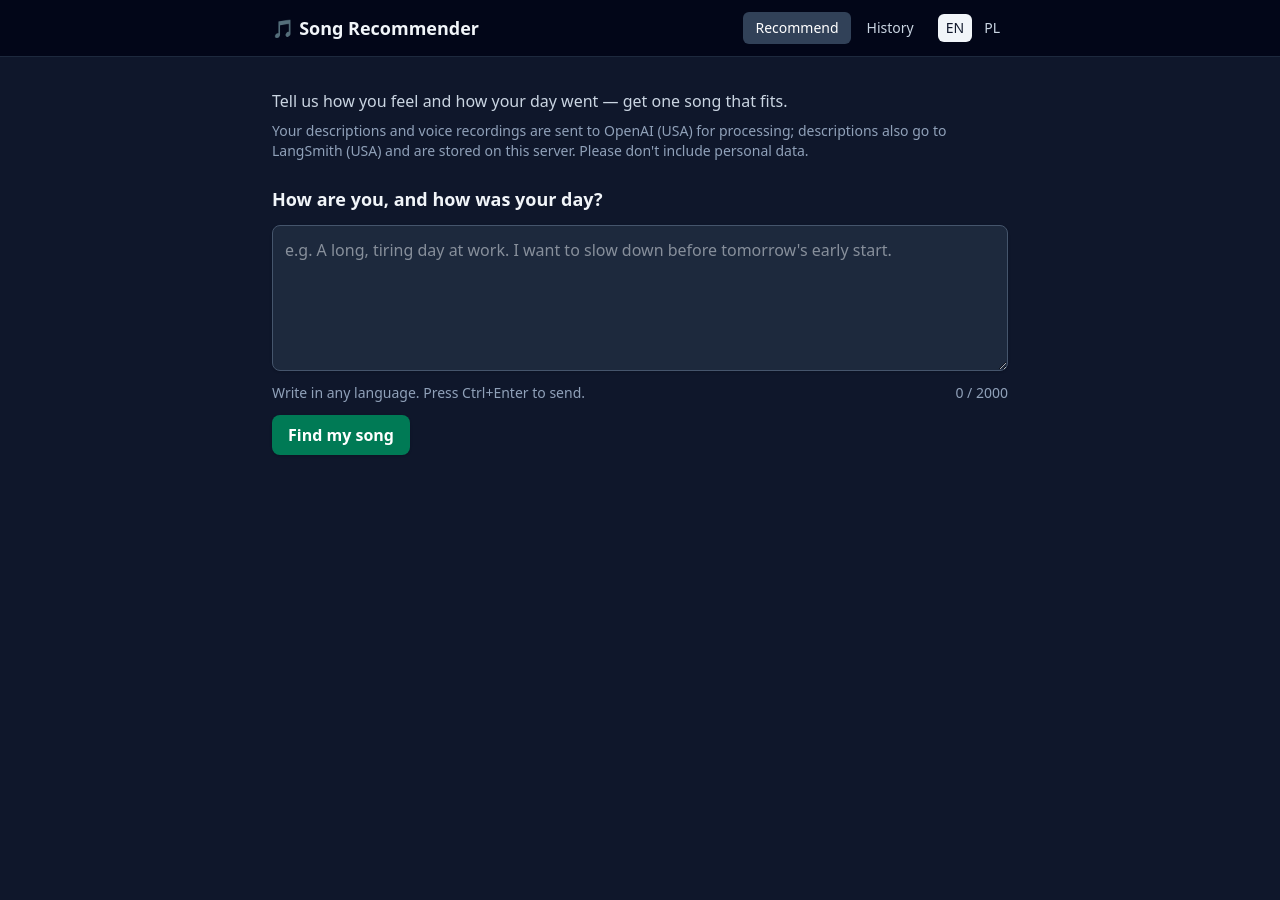
Scenario: LanguageSwitcher › sends the selected locale, so the explanation comes back in that language
Click the button with aria-label "Polski" at [992, 28], box [976, 14, 1008, 42]
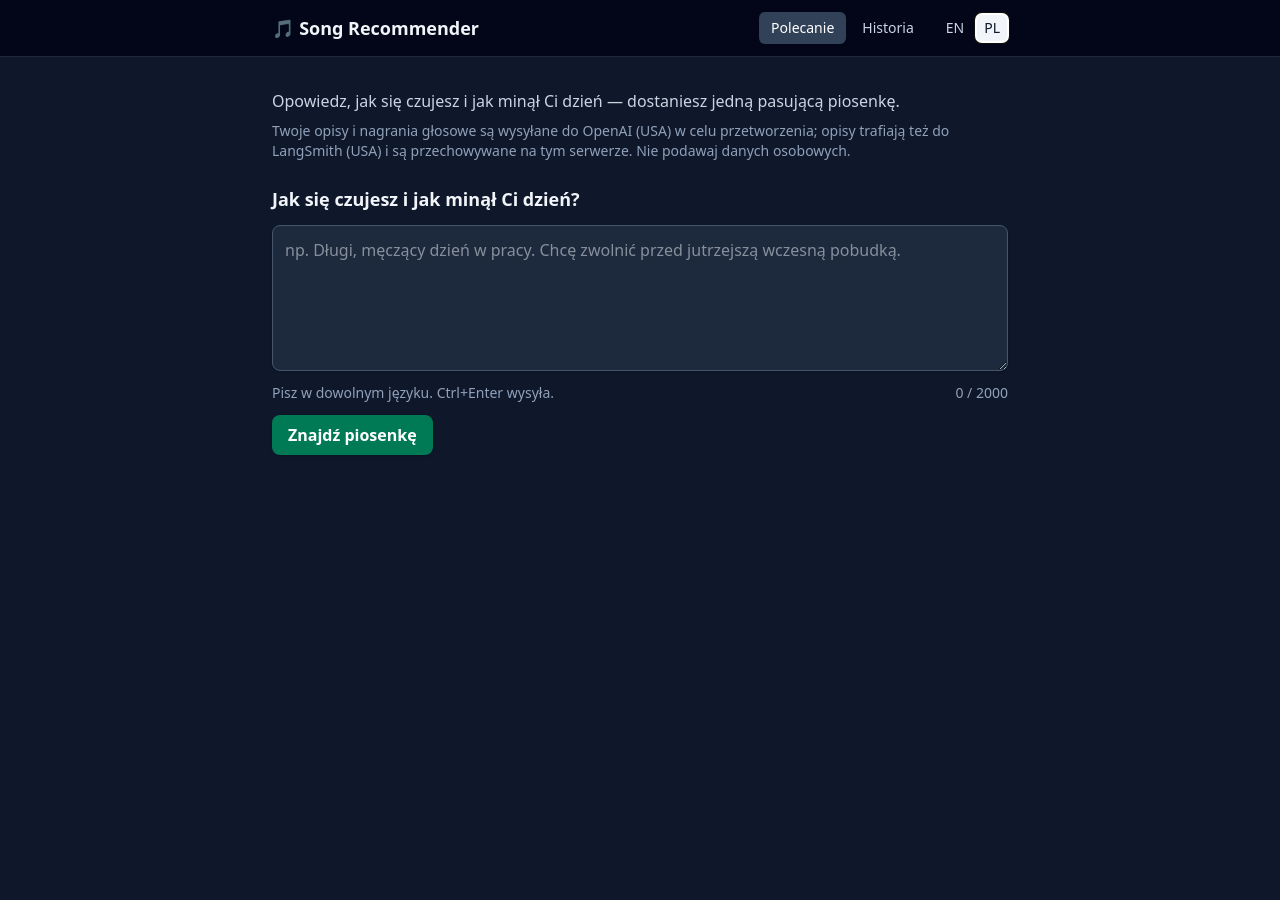
The description itself may be in any language (FR-5).
Type "A long day at work." into the text box labelled "Jak się czujesz i jak minął Ci dzień?" at [640, 298], box [272, 225, 1008, 371]
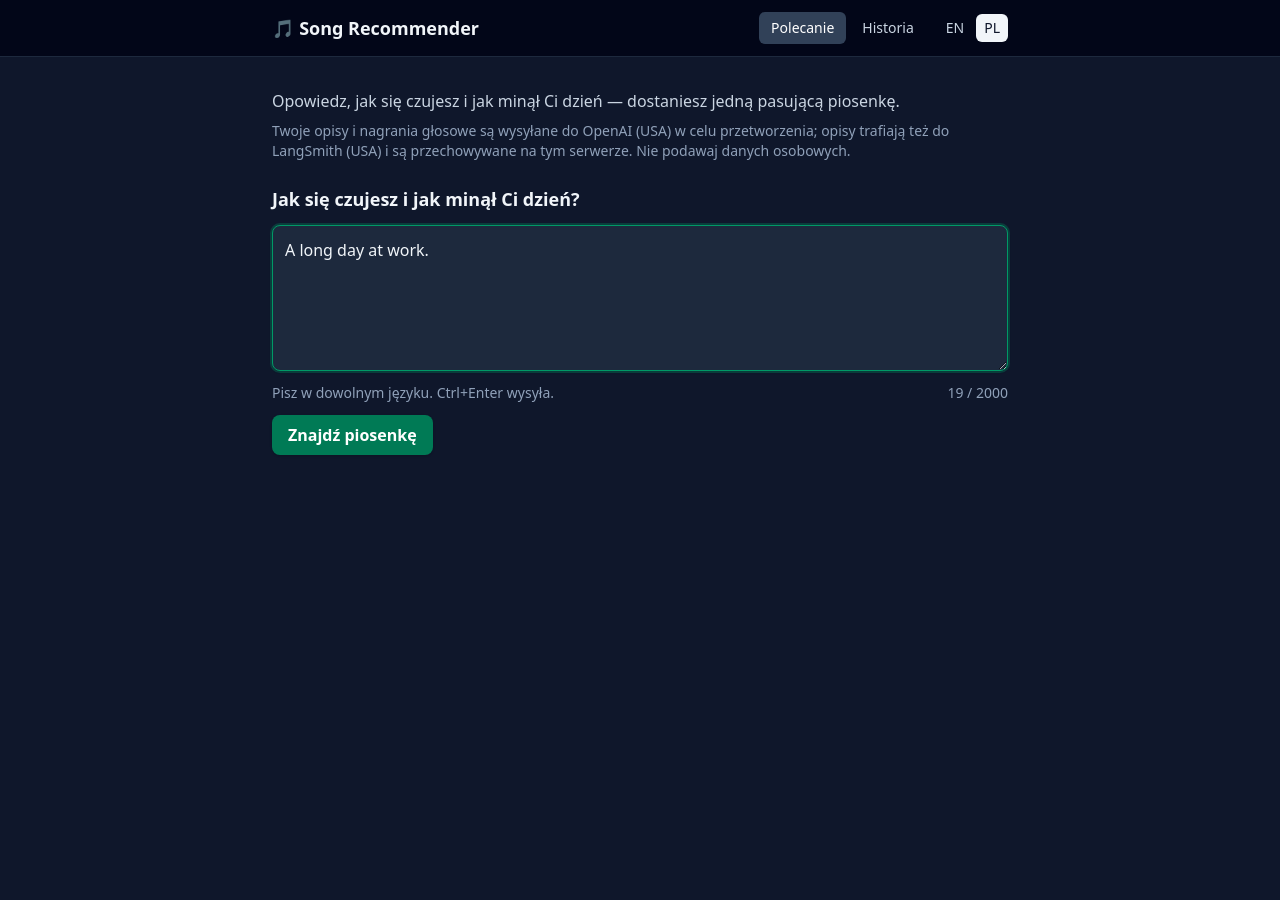
Click the button "Znajdź piosenkę" at [352, 435], box [272, 415, 433, 455]
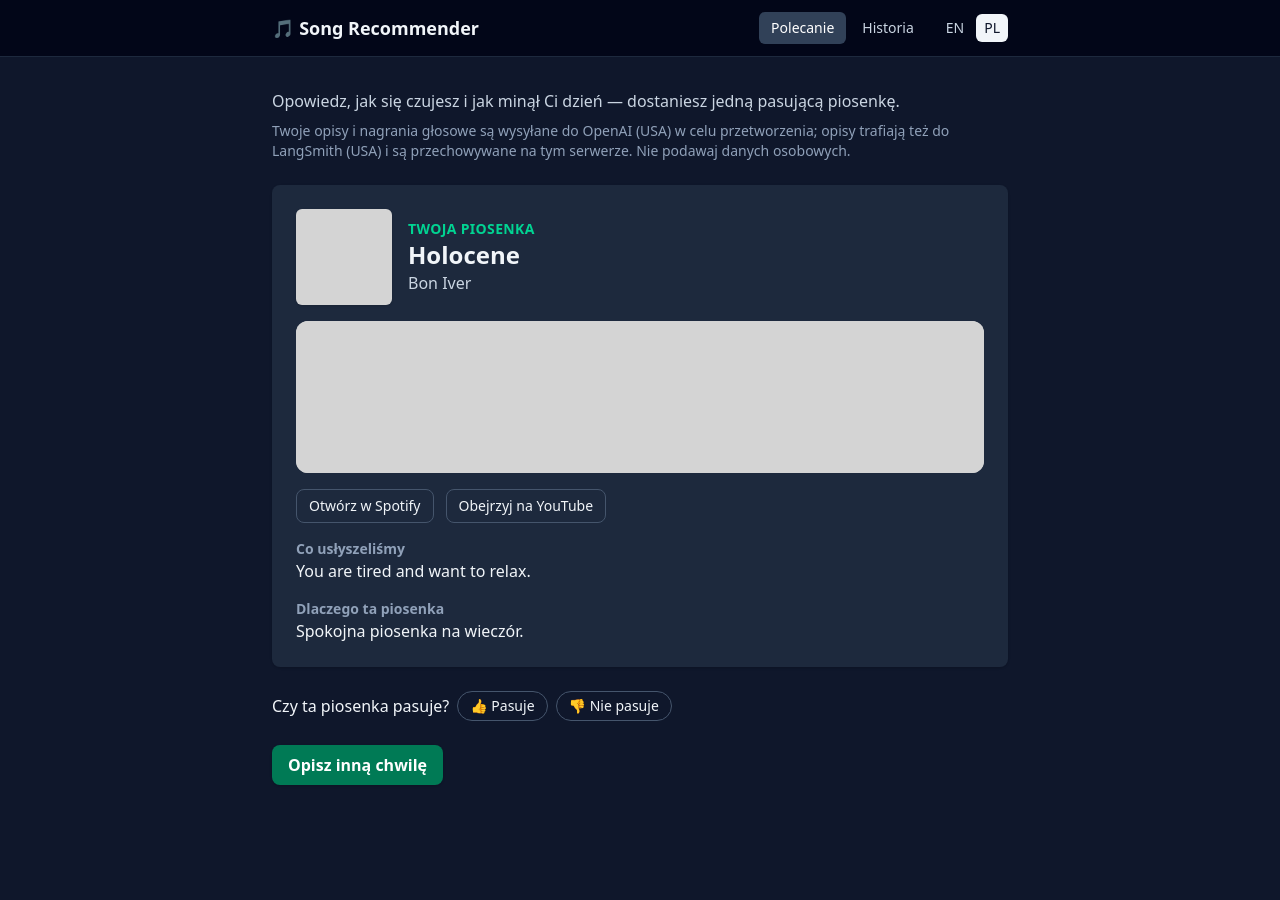
Result: the text "Spokojna piosenka na wieczór." is shown at [296, 620, 524, 642]
Result: the heading "Dlaczego ta piosenka" is shown at [296, 599, 444, 618]
